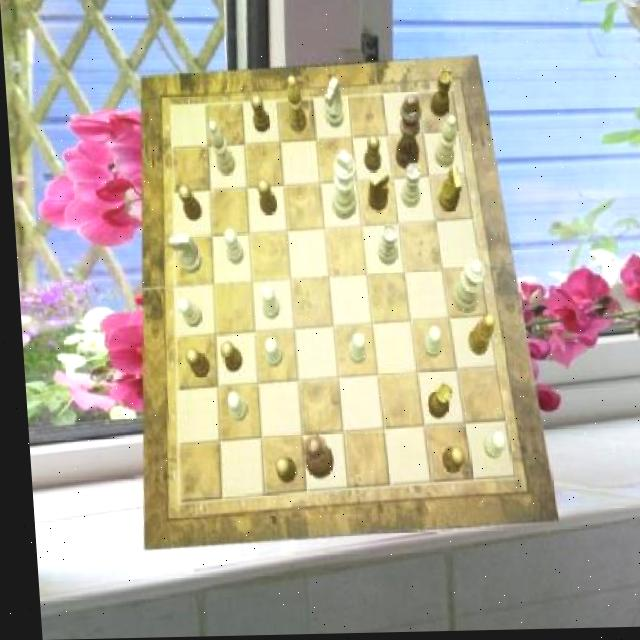bishop: (284, 77, 306, 134), (463, 316, 493, 357)
black-bishop: (392, 96, 423, 171)
black-king: (434, 168, 460, 214), (363, 170, 388, 213)
black-knight: (176, 186, 200, 221), (180, 347, 205, 379), (254, 180, 275, 216), (250, 95, 269, 134), (215, 342, 238, 374), (362, 138, 380, 174), (436, 448, 460, 474), (269, 459, 291, 484)
black-pawn: (296, 434, 328, 480)
black-queen: (427, 71, 453, 120), (421, 385, 448, 422)
black-rook: (207, 121, 234, 176), (431, 117, 458, 170)
white-bishop: (327, 151, 356, 220)
white-king: (166, 235, 199, 276), (321, 79, 343, 130)
white-knight: (220, 230, 241, 266), (173, 298, 198, 328), (477, 435, 501, 463), (257, 285, 276, 320), (419, 328, 439, 361), (221, 392, 242, 423), (343, 334, 362, 367), (260, 337, 279, 368)
white-pawn: (445, 260, 484, 316)
white-queen: (395, 164, 420, 210), (372, 227, 397, 268)
